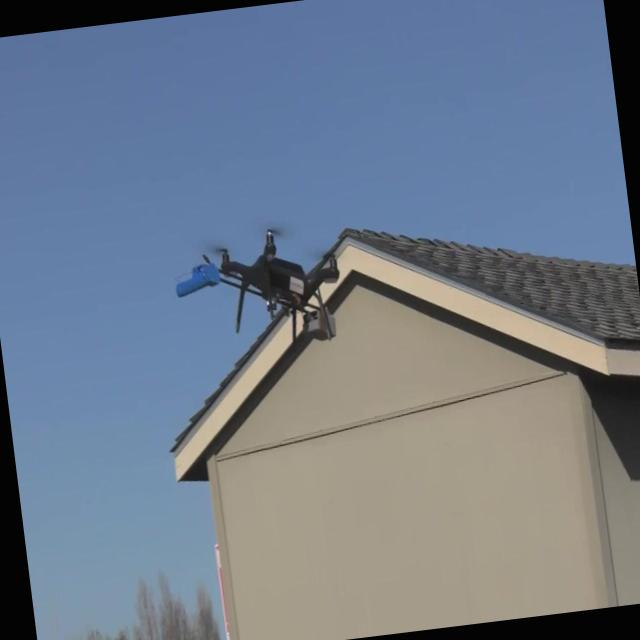drone: (165, 215, 354, 364)
